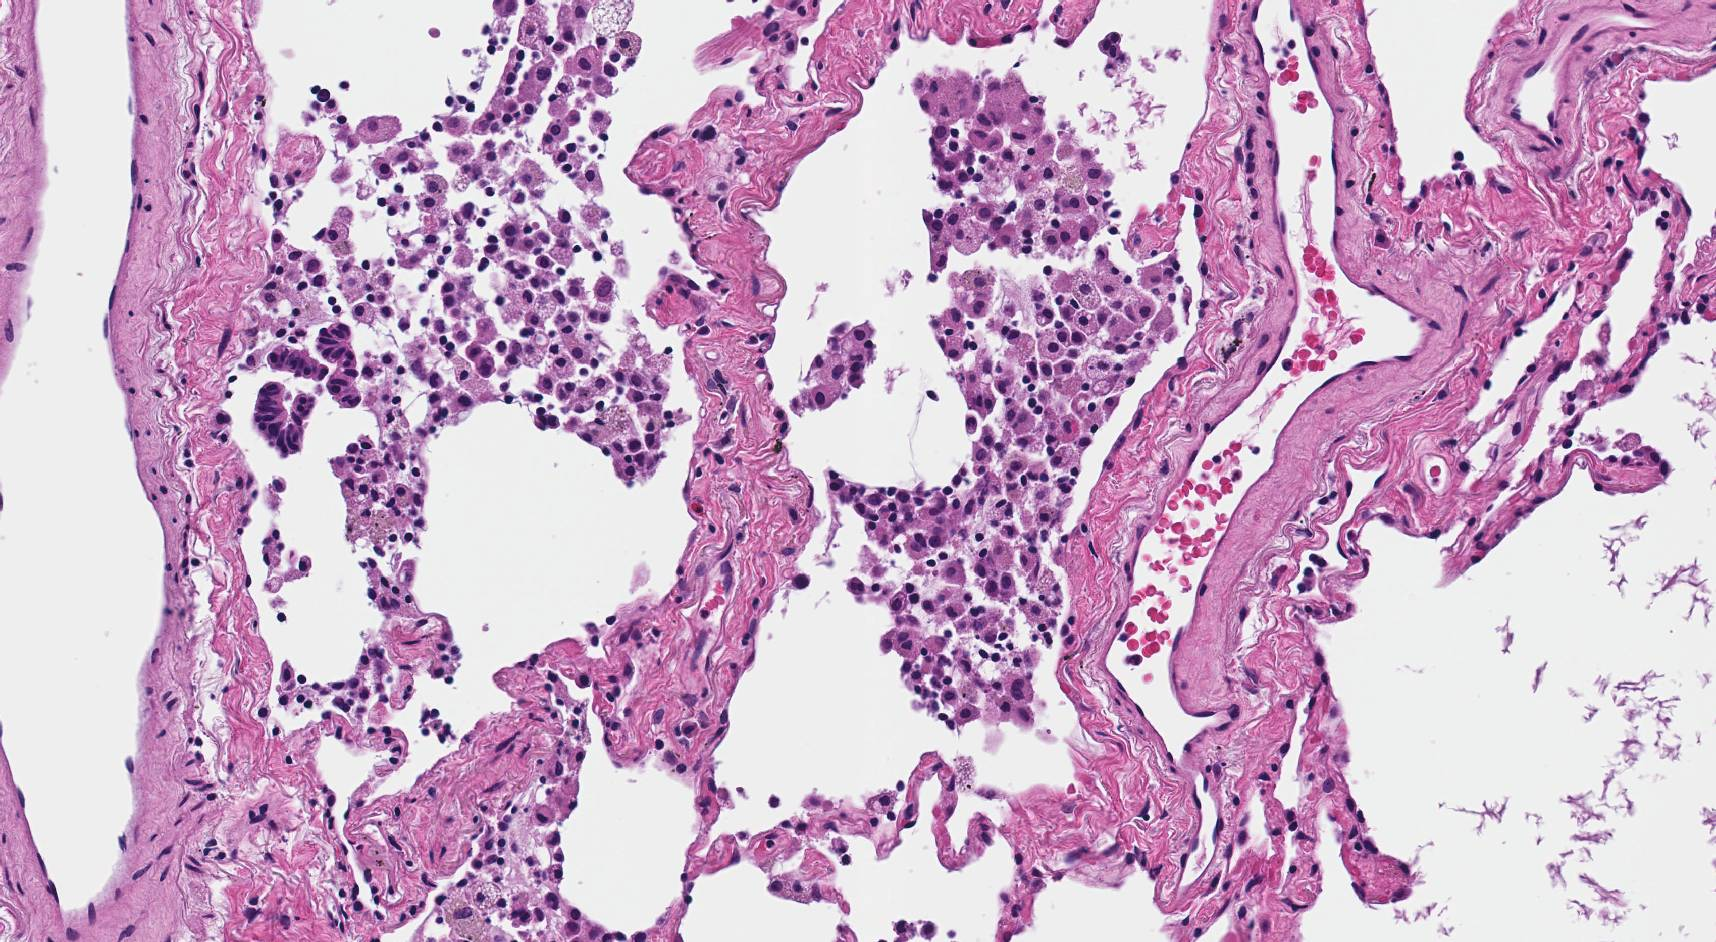stas: (254, 323, 362, 456)
